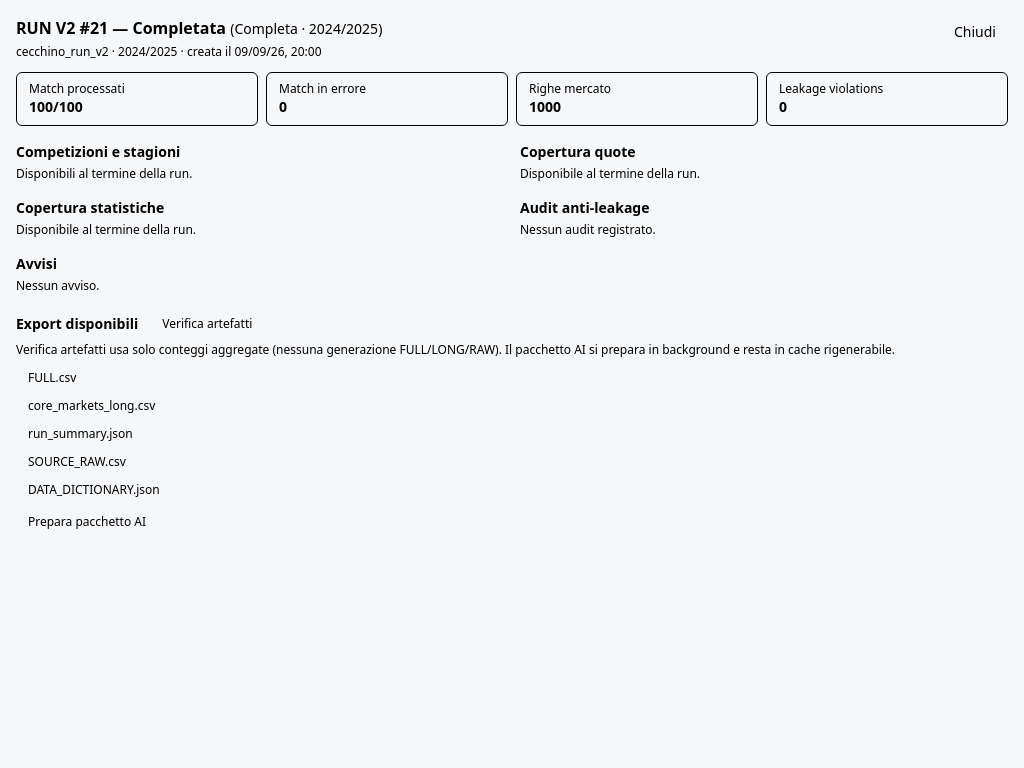
Test: CecchinoRunV2DetailPanel AI bundle async › su failed retryable mostra errore e lascia ripremere Prepara
Click the button with test id "run-v2-prepare-ai-bundle-21".
click(87, 522)  # box left=16, top=510, right=158, bottom=534
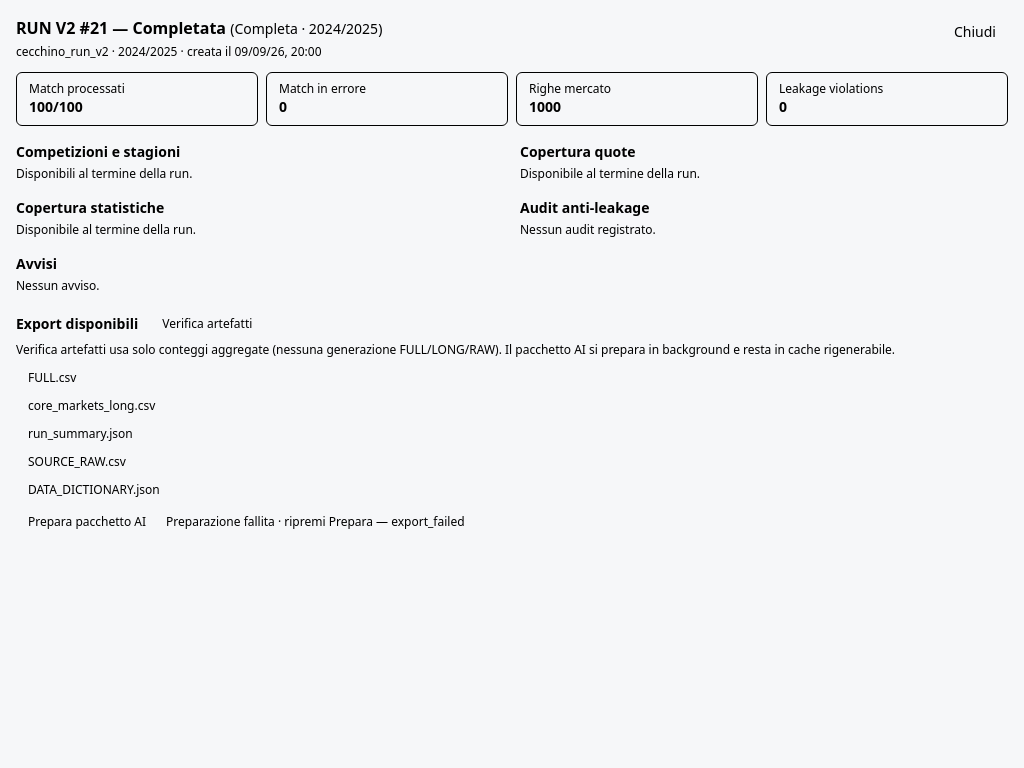
Result: the text with test id "run-v2-ai-bundle-status-21" shows "Preparazione fallita" at left=166, top=513, right=373, bottom=530
Result: the text with test id "run-v2-ai-bundle-status-21" shows "ripremi Prepara" at left=166, top=513, right=373, bottom=530
